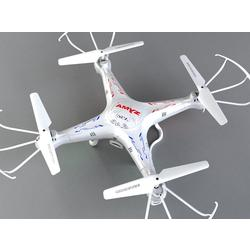drone: (1, 32, 250, 220)
